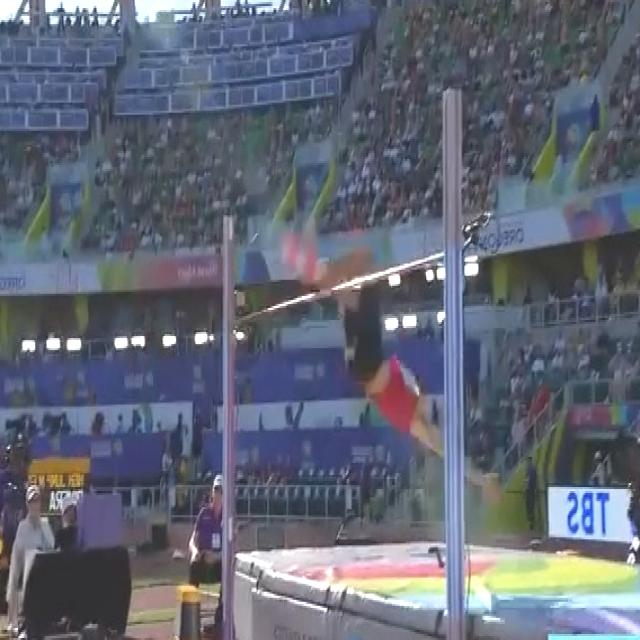land: (278, 227, 498, 505)
